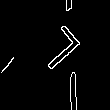L_SW: (25, 23, 82, 79)
